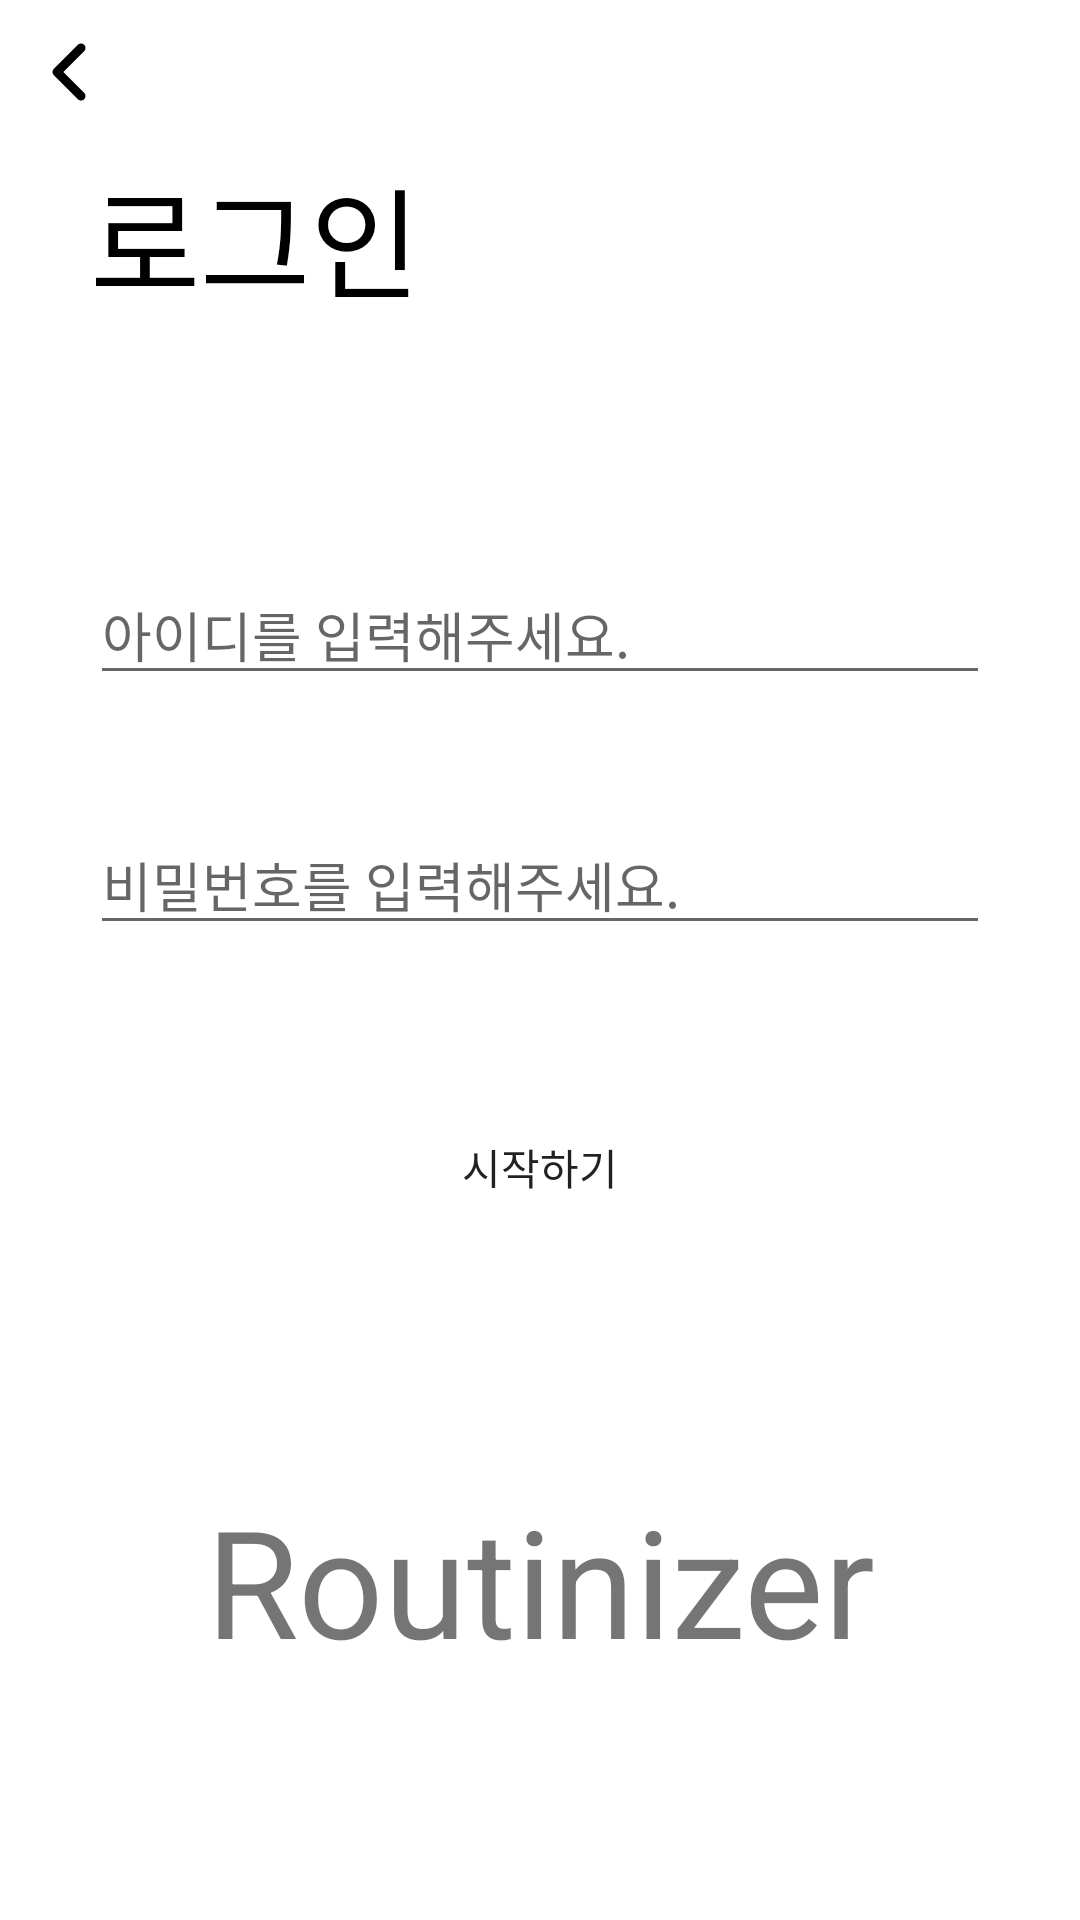

Screen size 1080w x 1920h. Icon name, then its center in pixels as point (x, y):
back: point (69, 72)
